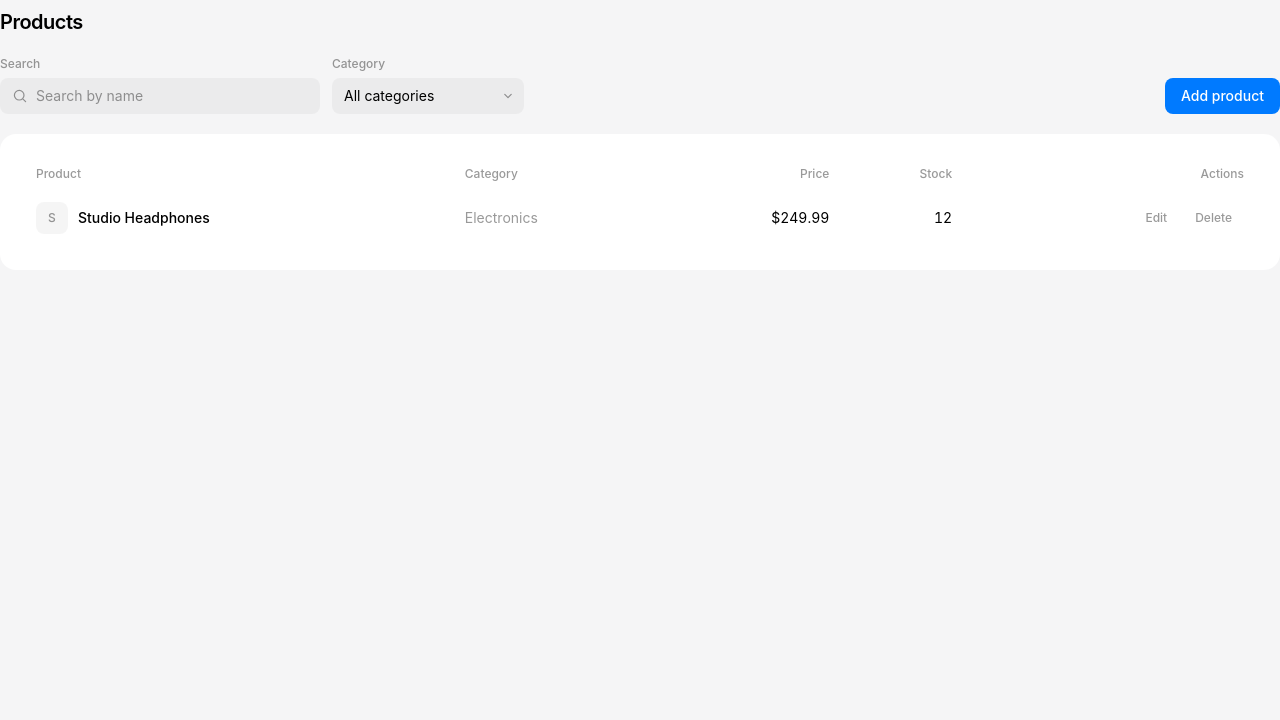
it: product CRUD › deletes after confirmation
Expected: the text "Studio Headphones" is shown, [78,208,210,228]
Click the button with aria-label "Delete Studio Headphones" at (1214, 218), box [1183,202,1244,234]
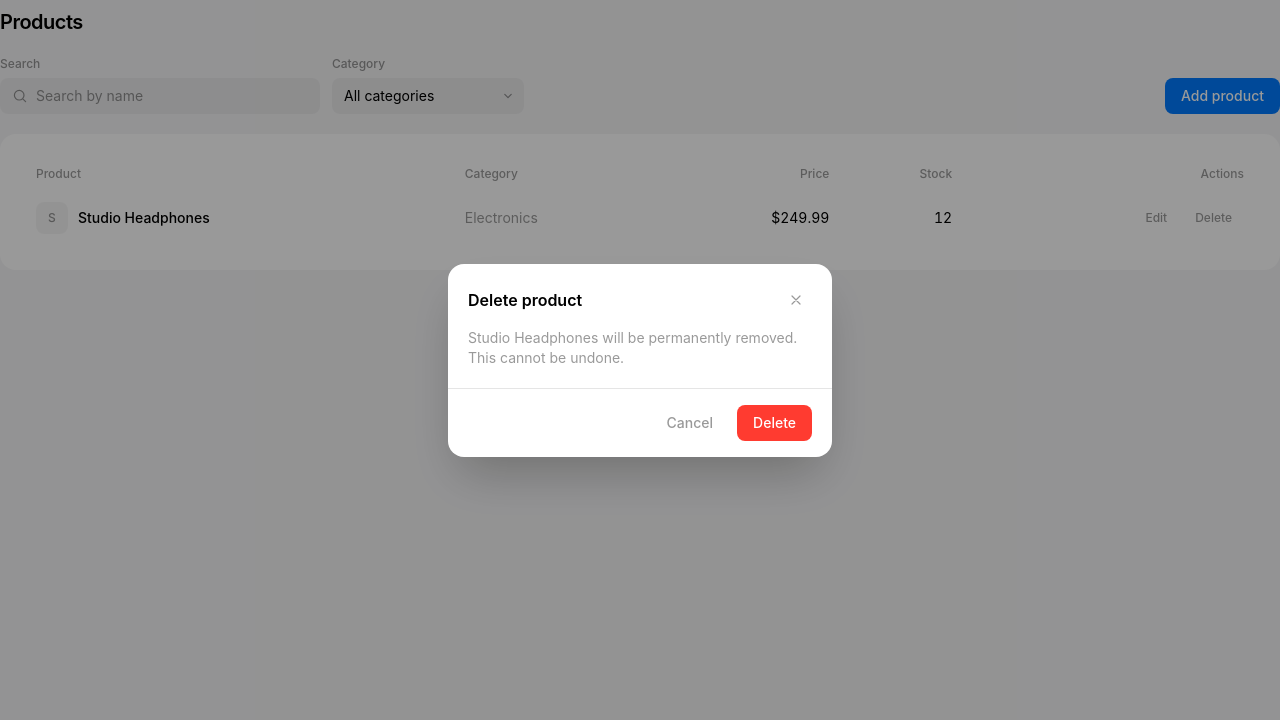
Click the button "Delete" at (775, 422), box [737,404,812,440]
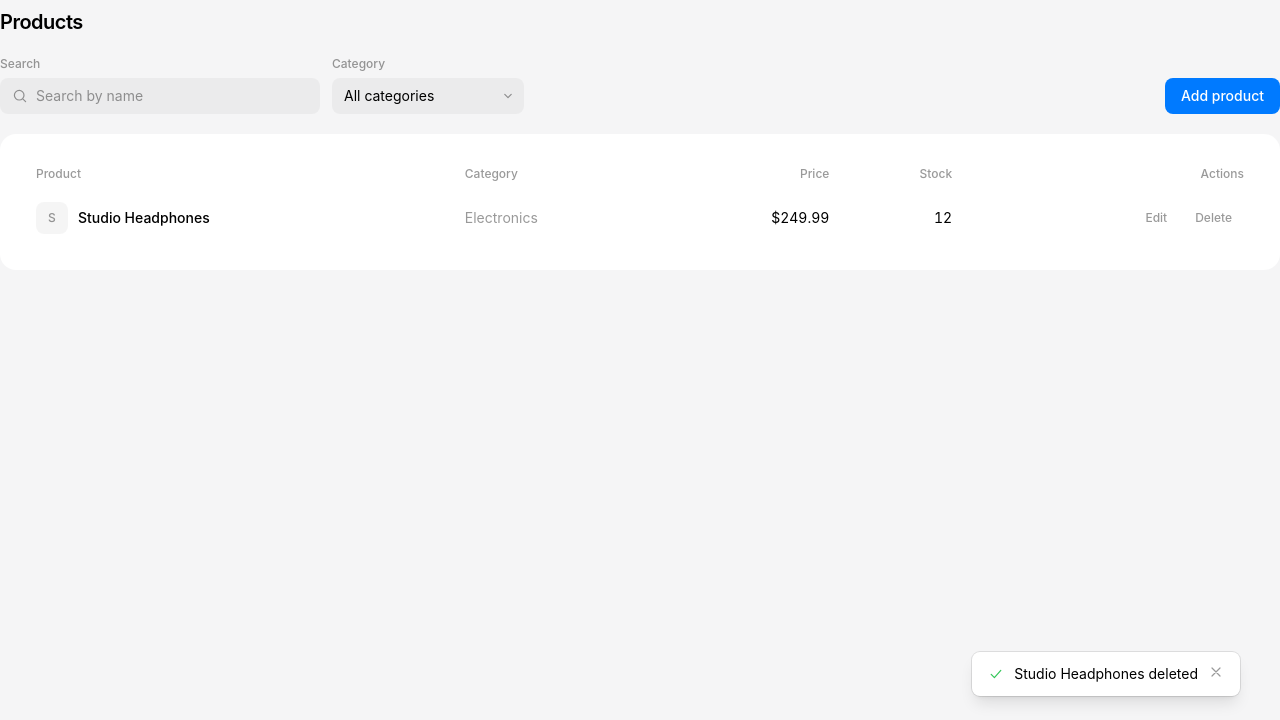
Now the text "Studio Headphones deleted" is shown, box [1014,664,1198,684]
